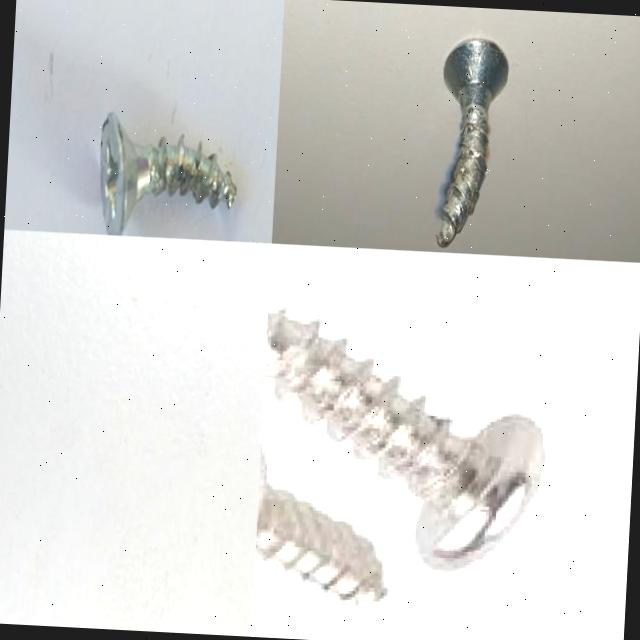Screw: (265, 305, 544, 573), (254, 446, 390, 608), (100, 113, 237, 236), (437, 40, 509, 249)
